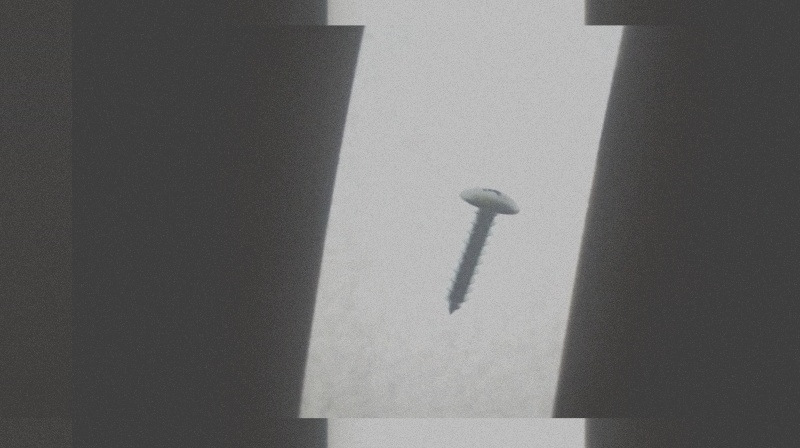S003: (445, 182, 522, 316)
